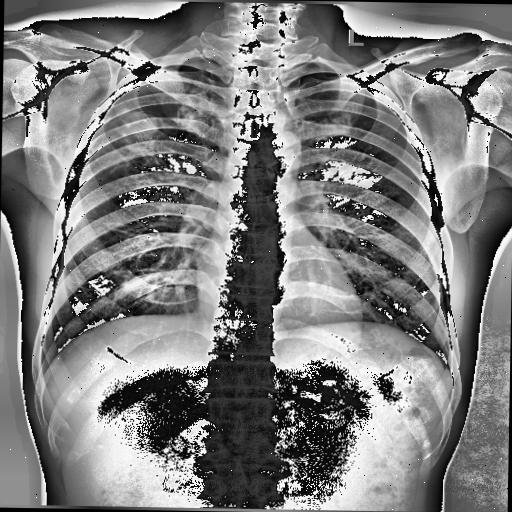13- Pulmonary fibrosis: (100, 105, 166, 171), (113, 108, 161, 166), (118, 109, 163, 164)
